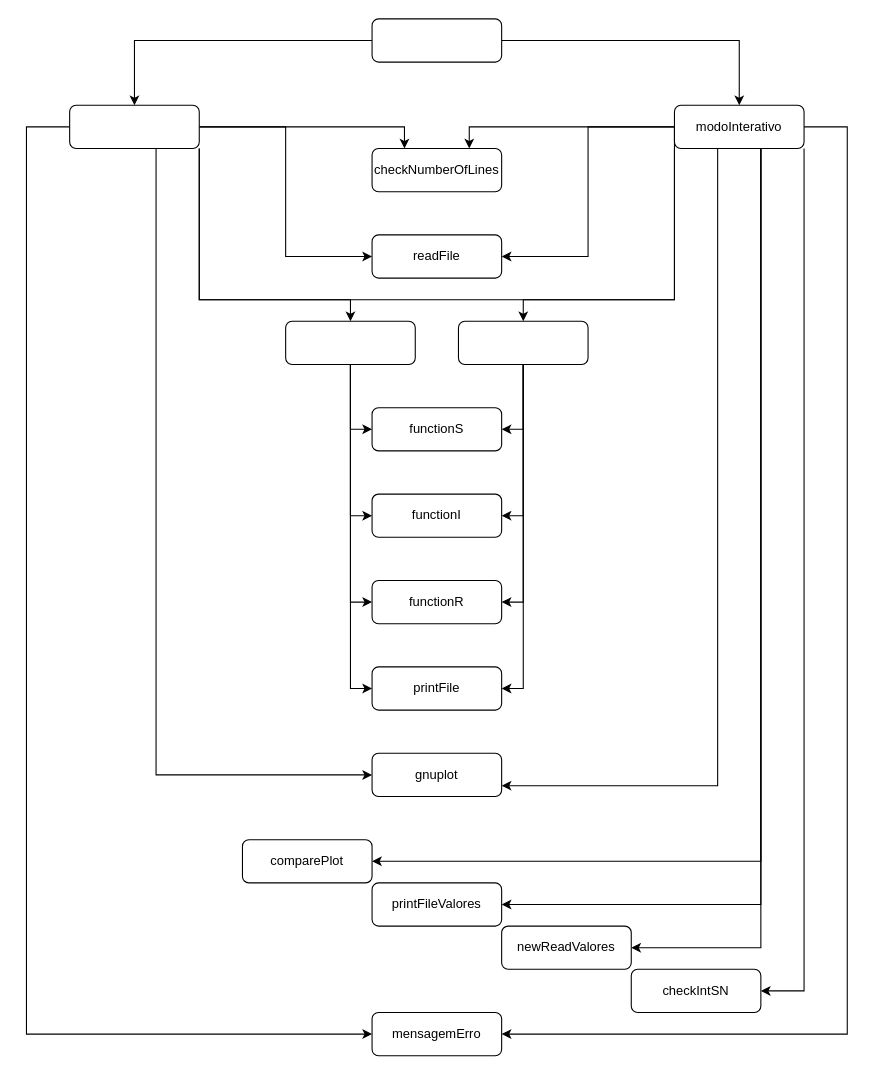
This 875x1075 diagram has some shape labels left out. Each missing label, with the centre of its shape:
"euler" goes at pixel 350 342.
"main" goes at pixel 436 40.
"modoNaoInterativo" goes at pixel 134 126.
"rK4" goes at pixel 522 342.
